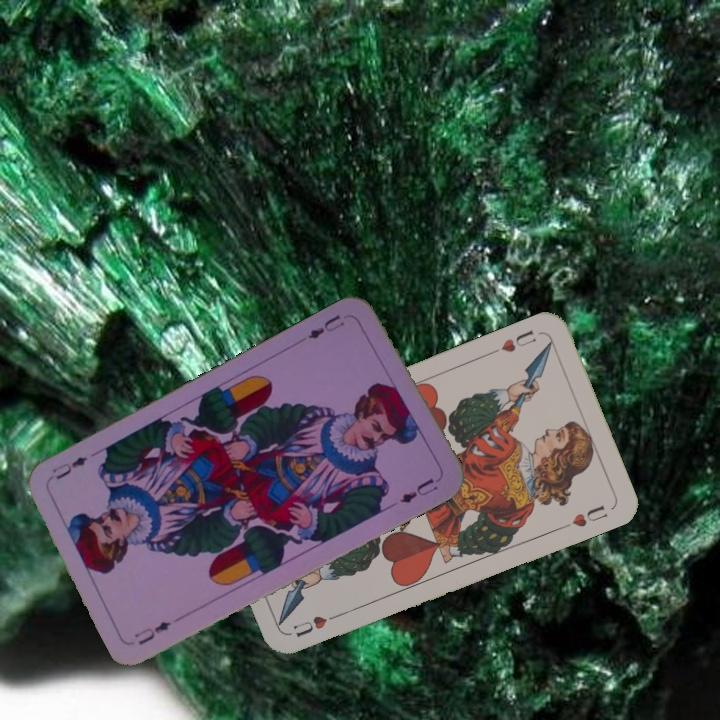EU: (129, 617, 174, 648), (304, 311, 348, 342)
HU: (289, 609, 344, 640), (496, 326, 539, 355)
